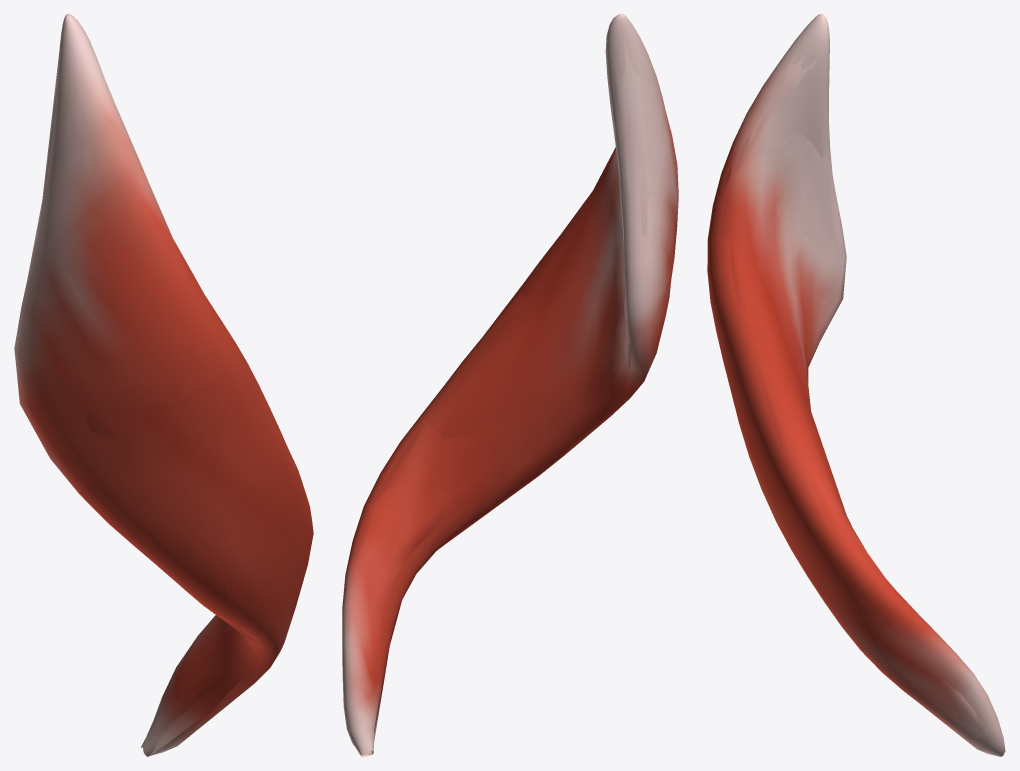
The model's file is R Extensor carpi ulnaris.fbx.
3 renders of one model, left to right at view 1: azimuth 30°, elevation 25°; view 2: azimuth 150°, elevation 25°; view 3: azimuth 270°, elevation 25°, orthographic. The views are drawn at different scales.
Visible parts, largest first — view 1: R Extensor carpi ulnaris, R Extensor carpi ulnaris low; view 2: R Extensor carpi ulnaris, R Extensor carpi ulnaris low; view 3: R Extensor carpi ulnaris, R Extensor carpi ulnaris low.
Boxes of the visible parts, x1,y1,x2,y2 form: R Extensor carpi ulnaris: (14,14,313,756); R Extensor carpi ulnaris low: (28,55,277,756); R Extensor carpi ulnaris: (342,14,678,756); R Extensor carpi ulnaris low: (343,33,676,756); R Extensor carpi ulnaris: (707,14,1005,756); R Extensor carpi ulnaris low: (717,42,1005,756).
Size of the model in its own units: 7.96 by 20.84 by 8.43.
